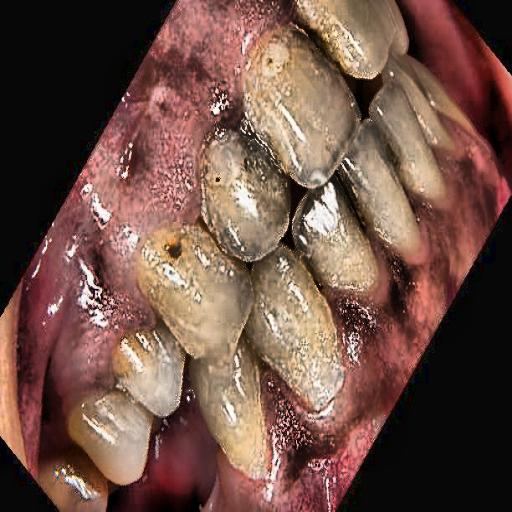Calculus: (74, 225, 337, 512), (227, 2, 466, 300)
